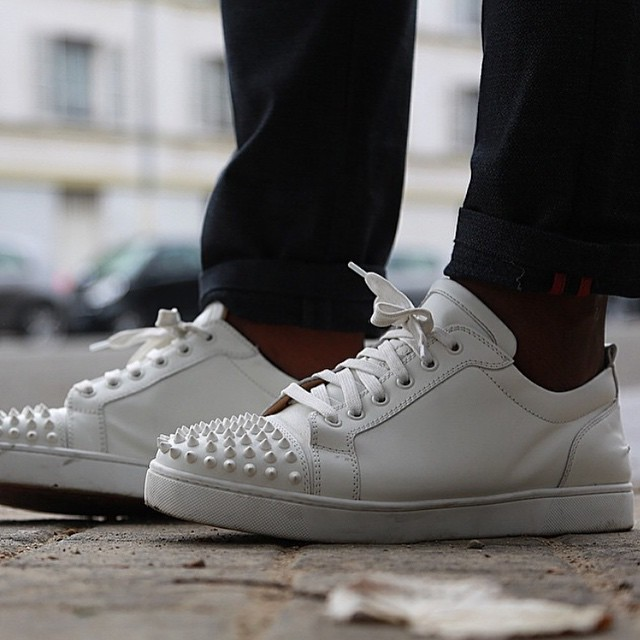sneaker: (100, 228, 640, 592), (1, 282, 390, 542)
